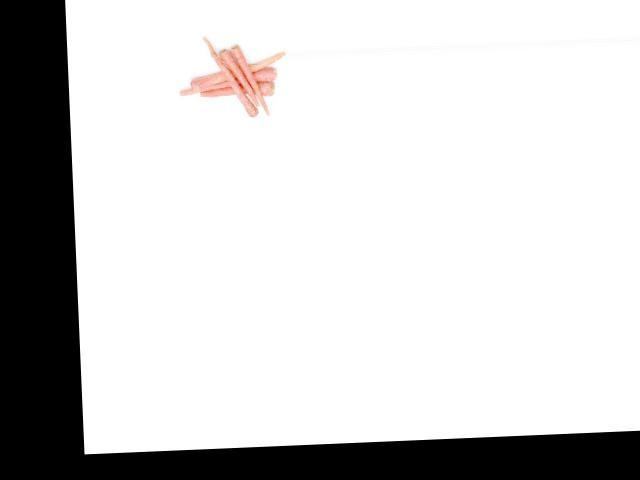carrot: (234, 45, 271, 116)
